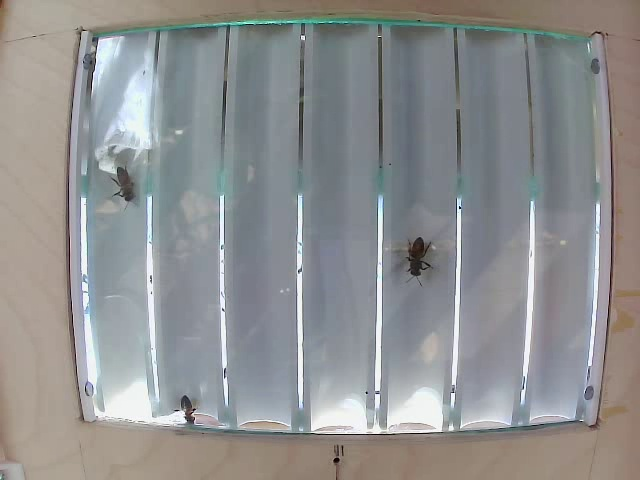bee: (173, 390, 215, 444), (111, 166, 144, 212), (401, 238, 434, 281)
